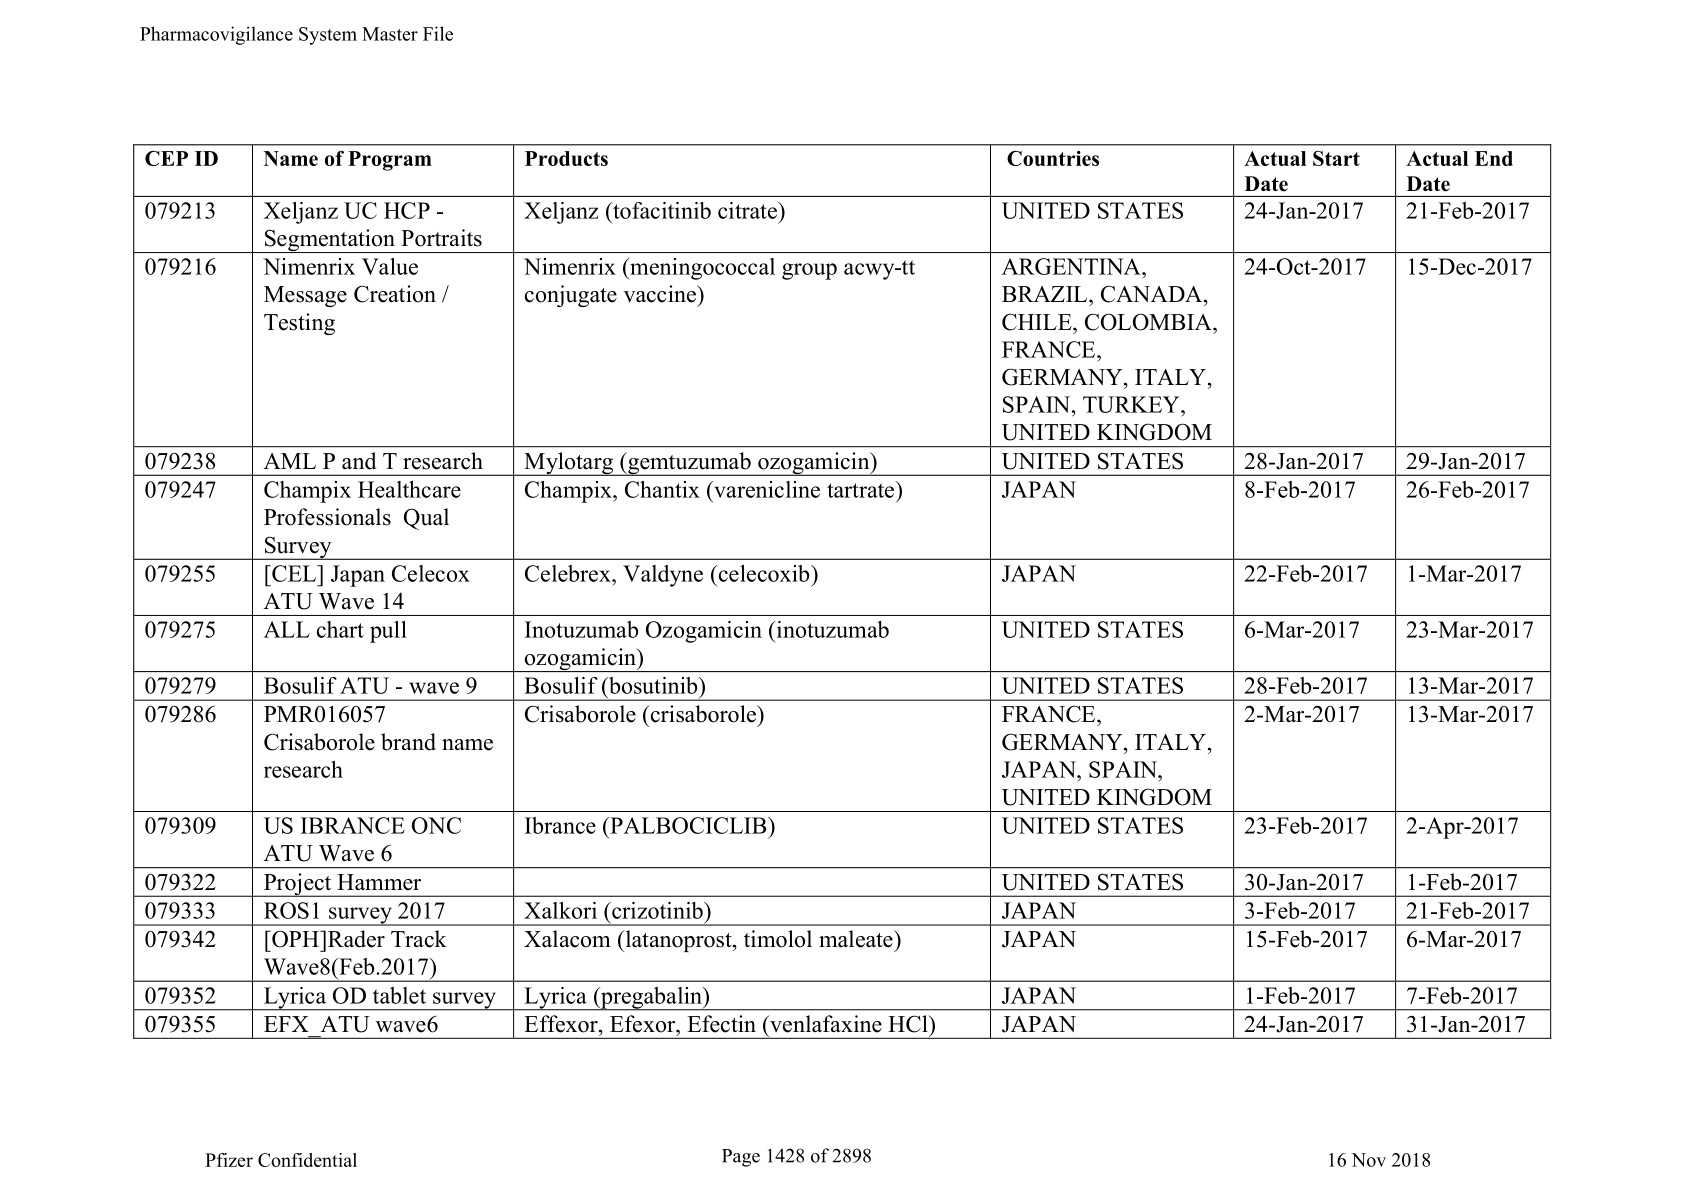full_lined: (131, 142, 1552, 1040)
